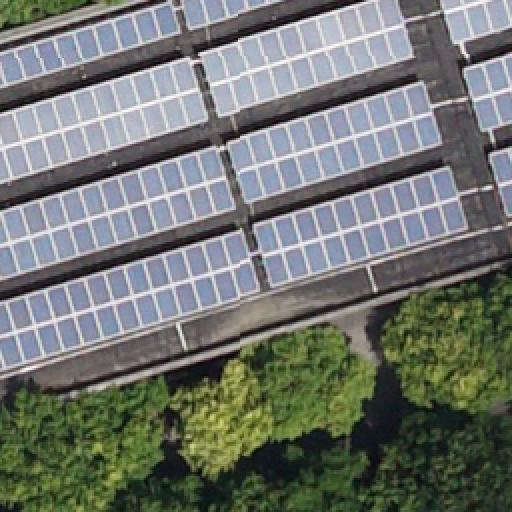solar-panel: (0, 226, 264, 370), (0, 145, 236, 279), (227, 79, 445, 209), (251, 164, 469, 288), (0, 56, 208, 184), (199, 0, 417, 116), (0, 0, 184, 90), (464, 51, 512, 133), (440, 0, 512, 44), (181, 1, 283, 31), (488, 143, 512, 217)
